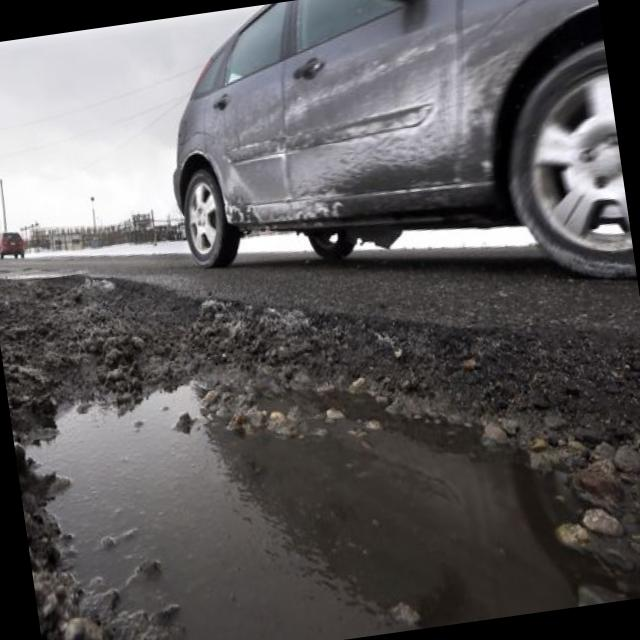Potholes: (0, 197, 640, 640)
